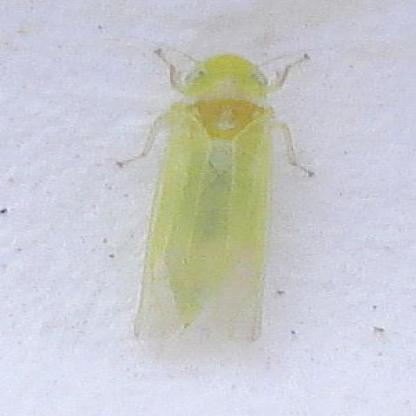green-leafhopper: (121, 48, 304, 346)
